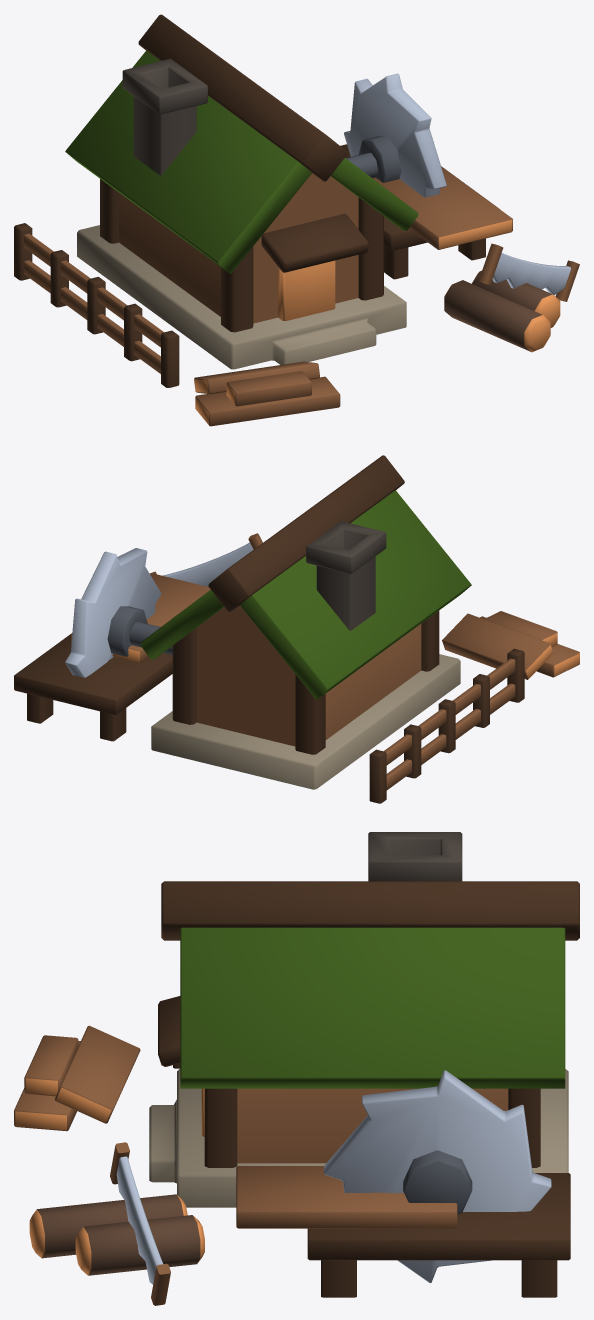
File: Sawmill.fbx
The picture shows the model from 3 angles, top to bottom: view 1: azimuth 30°, elevation 25°; view 2: azimuth 150°, elevation 25°; view 3: azimuth 270°, elevation 25°; orthographic projection. The views are drawn at different scales.
Parts seen in each view (by area): view 1: Cube.1099, Cube.1100, Cube.1098, Cube.1113, Cube.1112, Cylinder.231, Cube.1101, Cube.1106, Cylinder.233, Cube.1110, Cube.1102, Cube.1111 (+9 smaller); view 2: Cube.1099, Cube.1098, Cube.1100, Cube.1105, Cube.1113, Cylinder.231, Cube.1112, Cube.1101, Cube.1110, Cube.1108, Cube.1111, Cube.1106 (+4 smaller); view 3: Cube.1099, Cube.1113, Cylinder.231, Cube.1105, Cube.1106, Cube.1098, Cube.1100, Cylinder.230, Cube.1108, Cube.1112, Cylinder.233, Cube.1101 (+6 smaller).
Boxes of the visible parts, box(x1,y1,x2,y2) form: Cube.1099: box(65, 50, 418, 273); Cube.1100: box(77, 225, 406, 369); Cube.1098: box(119, 173, 358, 323); Cube.1113: box(138, 14, 347, 181); Cube.1112: box(122, 58, 207, 175); Cylinder.231: box(344, 73, 446, 197); Cube.1101: box(100, 179, 383, 332); Cube.1106: box(373, 166, 512, 249); Cylinder.233: box(444, 280, 550, 352); Cube.1110: box(14, 223, 179, 387); Cube.1102: box(261, 213, 368, 272); Cube.1111: box(24, 233, 163, 373); Cube.1099: box(140, 490, 471, 699); Cube.1098: box(196, 605, 421, 746); Cube.1100: box(151, 654, 460, 789); Cube.1105: box(14, 633, 172, 741); Cube.1113: box(208, 455, 404, 612); Cylinder.231: box(65, 548, 161, 677); Cube.1112: box(306, 521, 386, 630); Cube.1101: box(172, 611, 439, 754); Cube.1110: box(369, 648, 524, 803); Cube.1108: box(442, 613, 553, 679); Cube.1111: box(384, 658, 515, 790); Cube.1106: box(71, 573, 210, 663); Cube.1099: box(180, 927, 565, 1088); Cube.1113: box(161, 881, 579, 940); Cylinder.231: box(324, 1070, 551, 1282); Cube.1105: box(307, 1173, 570, 1297); Cube.1106: box(236, 1166, 457, 1228); Cube.1098: box(237, 1088, 508, 1163); Cube.1100: box(149, 1069, 568, 1207); Cylinder.230: box(75, 1215, 204, 1275); Cube.1108: box(54, 1025, 140, 1123); Cube.1112: box(368, 832, 462, 881); Cylinder.233: box(29, 1194, 187, 1258); Cube.1101: box(204, 1088, 540, 1167).
Bounding box in the file's own units: 190 × 100 × 178.
